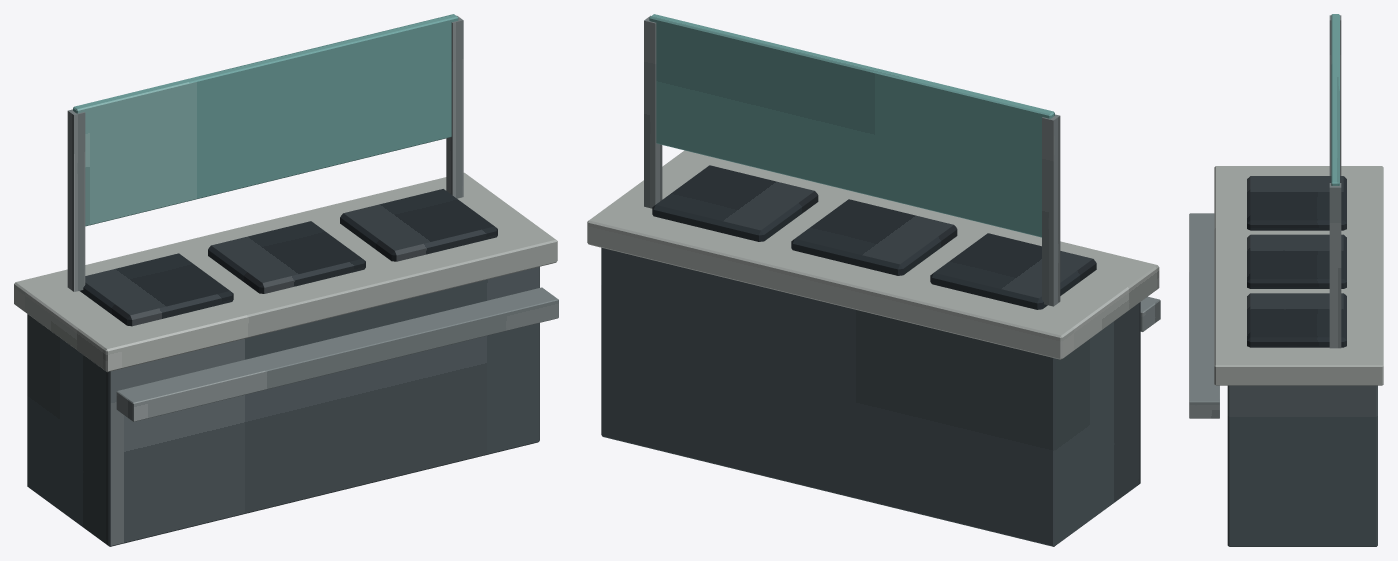
The model's file is prison_serving_counter.glb.
The picture shows the model from 3 angles, left to right: view 1: azimuth 30°, elevation 25°; view 2: azimuth 150°, elevation 25°; view 3: azimuth 270°, elevation 25°; orthographic projection. The views are drawn at different scales.
Visible parts, largest first — view 1: CounterBase, SneezeGuard, CounterTop, TrayRail, FoodWell_2, FoodWell_1, FoodWell_0, GuardPost_-1.03, GuardPost_1.03; view 2: CounterBase, SneezeGuard, CounterTop, FoodWell_1, FoodWell_2, FoodWell_0, GuardPost_-1.03, GuardPost_1.03; view 3: CounterBase, CounterTop, TrayRail, FoodWell_0, FoodWell_1, FoodWell_2, GuardPost_1.03, SneezeGuard, GuardPost_-1.03.
Boxes of the visible parts, bbox=[...] form: CounterBase: bbox=[27, 266, 539, 546]; SneezeGuard: bbox=[73, 14, 458, 226]; CounterTop: bbox=[14, 172, 557, 372]; TrayRail: bbox=[116, 287, 558, 421]; FoodWell_2: bbox=[340, 189, 497, 261]; FoodWell_1: bbox=[208, 221, 365, 293]; FoodWell_0: bbox=[80, 253, 233, 326]; GuardPost_-1.03: bbox=[67, 109, 85, 291]; GuardPost_1.03: bbox=[446, 15, 463, 198]; CounterBase: bbox=[601, 247, 1140, 546]; SneezeGuard: bbox=[649, 14, 1054, 237]; CounterTop: bbox=[587, 150, 1159, 359]; FoodWell_1: bbox=[791, 199, 957, 275]; FoodWell_2: bbox=[652, 165, 818, 241]; FoodWell_0: bbox=[930, 233, 1096, 309]; GuardPost_-1.03: bbox=[1042, 114, 1060, 306]; GuardPost_1.03: bbox=[644, 15, 662, 208]; CounterBase: bbox=[1227, 385, 1377, 546]; CounterTop: bbox=[1214, 166, 1383, 385]; TrayRail: bbox=[1189, 213, 1219, 418]; FoodWell_0: bbox=[1247, 176, 1346, 230]; FoodWell_1: bbox=[1247, 234, 1346, 288]; FoodWell_2: bbox=[1247, 293, 1346, 347]; GuardPost_1.03: bbox=[1329, 183, 1341, 348]; SneezeGuard: bbox=[1331, 14, 1339, 185]; GuardPost_-1.03: bbox=[1329, 15, 1341, 175].
Bounding box in the file's own units: 2.46 × 2.03 × 1.01.
1 material, 1 textured.
